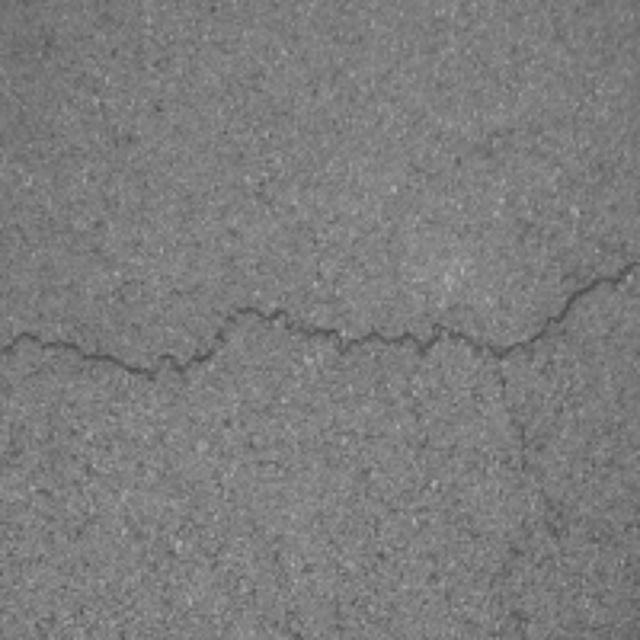Surface Erosion: (0, 247, 640, 395)
